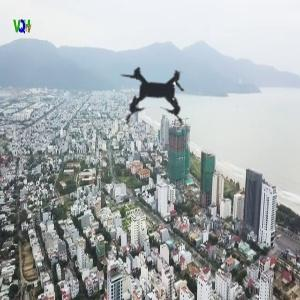drone: (92, 32, 223, 163)
